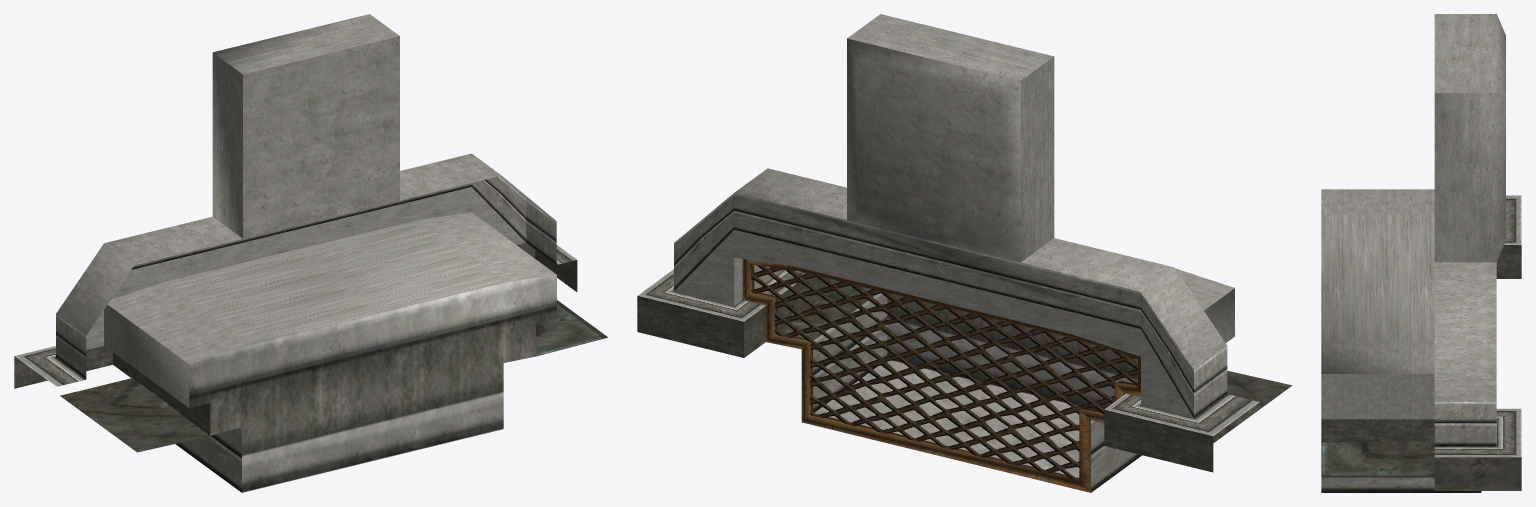
File: DWARF_PALACE_WATERROOM_CANAL_VENT05.fbx
3 renders of one model, left to right at view 1: azimuth 30°, elevation 25°; view 2: azimuth 150°, elevation 25°; view 3: azimuth 270°, elevation 25°, orthographic. The views are drawn at different scales.
Parts seen in each view (by area): view 1: DWARF_PALACE_WATERROOM_CANAL_VENT05; view 2: DWARF_PALACE_WATERROOM_CANAL_VENT05; view 3: DWARF_PALACE_WATERROOM_CANAL_VENT05.
Boxes of the visible parts, x1,y1,x2,y2 form: DWARF_PALACE_WATERROOM_CANAL_VENT05: (14,14,607,492); DWARF_PALACE_WATERROOM_CANAL_VENT05: (637,14,1292,492); DWARF_PALACE_WATERROOM_CANAL_VENT05: (1321,14,1521,492).
Bounding box in the file's own units: 49728 × 33273 × 16097.
Materials: 7 (7 with a texture image).
